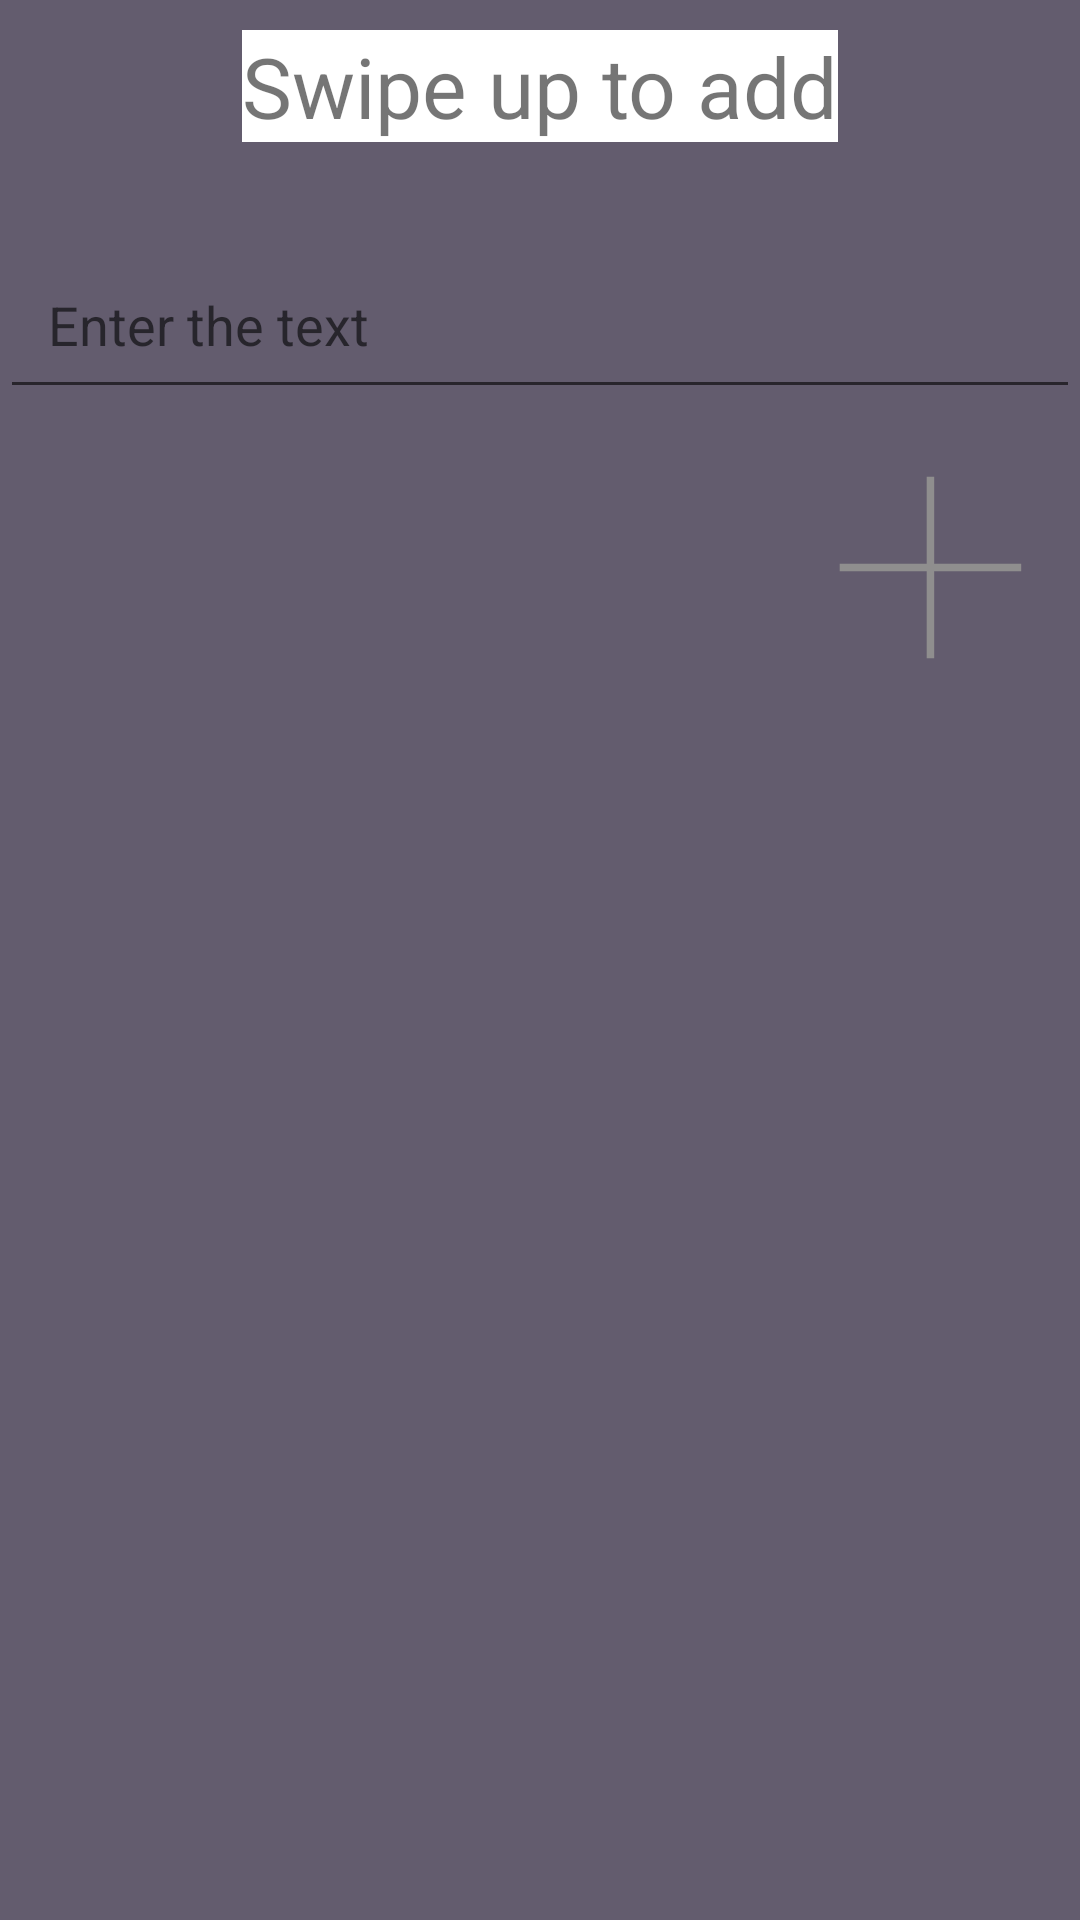

Where to tap for icons on this 1080px x 1920px app screen, as (x,y):
add press: (930,567)
